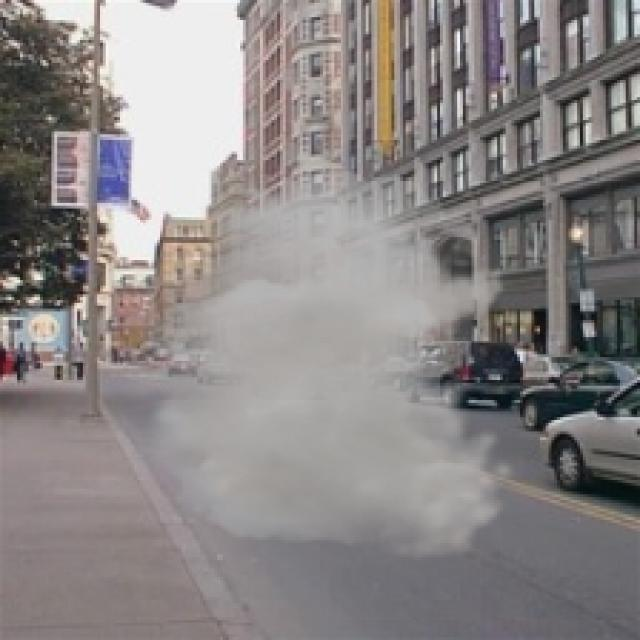smoke: (92, 171, 517, 560)
